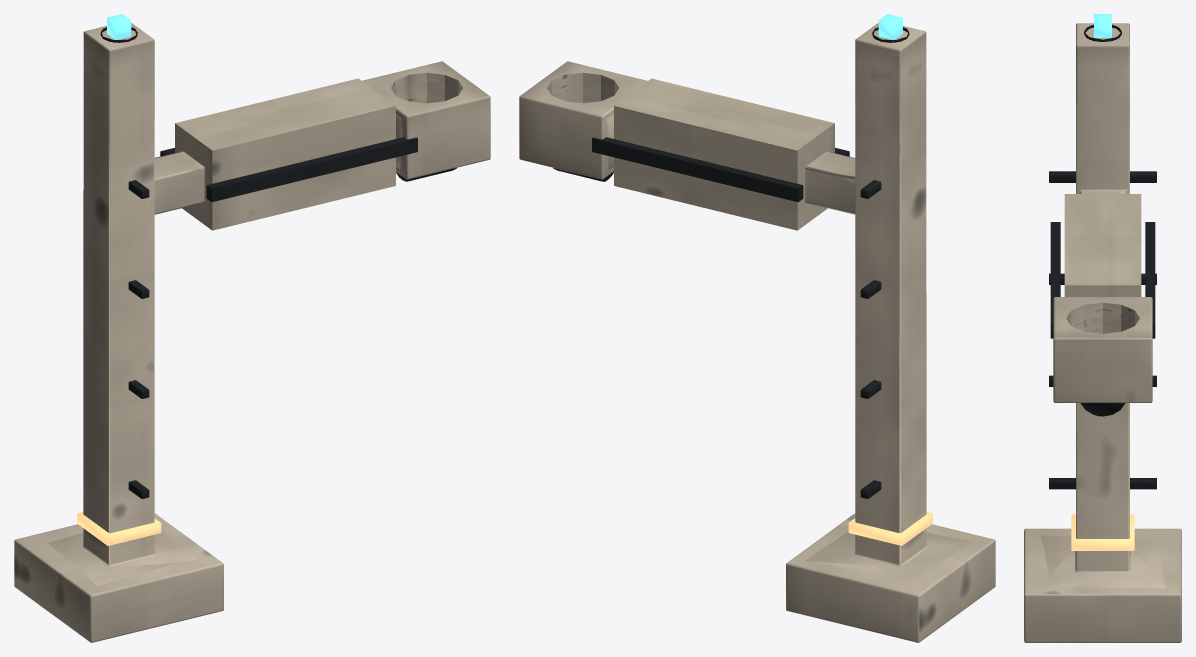
The model's file is place_lane_beacon_v5.glb.
3 renders of one model, left to right at view 1: azimuth 30°, elevation 25°; view 2: azimuth 150°, elevation 25°; view 3: azimuth 270°, elevation 25°, orthographic. The views are drawn at different scales.
Parts seen in each view (by area): view 1: LOD0_Merged_Material_Hull, LOD1_Merged_Material_Hull, LOD0_Merged_Material_Mechanical, LOD2_Merged_Material_Hull, LOD0_Merged_Material_Warm; view 2: LOD0_Merged_Material_Hull, LOD1_Merged_Material_Hull, LOD0_Merged_Material_Mechanical, LOD2_Merged_Material_Hull, LOD0_Merged_Material_Warm; view 3: LOD0_Merged_Material_Hull, LOD1_Merged_Material_Hull, LOD0_Merged_Material_Mechanical, LOD2_Merged_Material_Hull, LOD0_Merged_Material_Warm, LOD1_Merged_Material_Mechanical, LOD0_HOOK_EMISSIVE.
Part boxes in pixels (<box>): LOD0_Merged_Material_Hull: <box>14,23,490,642</box>; LOD1_Merged_Material_Hull: <box>15,27,490,642</box>; LOD0_Merged_Material_Mechanical: <box>100,27,456,498</box>; LOD2_Merged_Material_Hull: <box>82,39,490,642</box>; LOD0_Merged_Material_Warm: <box>77,512,161,545</box>; LOD0_Merged_Material_Hull: <box>519,23,995,642</box>; LOD1_Merged_Material_Hull: <box>519,31,995,642</box>; LOD0_Merged_Material_Mechanical: <box>553,27,909,498</box>; LOD2_Merged_Material_Hull: <box>519,31,995,642</box>; LOD0_Merged_Material_Warm: <box>848,512,932,545</box>; LOD0_Merged_Material_Hull: <box>1024,23,1181,642</box>; LOD1_Merged_Material_Hull: <box>1024,23,1181,642</box>; LOD0_Merged_Material_Mechanical: <box>1049,24,1156,489</box>; LOD2_Merged_Material_Hull: <box>1024,23,1181,642</box>; LOD0_Merged_Material_Warm: <box>1071,514,1134,550</box>; LOD1_Merged_Material_Mechanical: <box>1049,25,1156,488</box>; LOD0_HOOK_EMISSIVE: <box>1094,14,1111,37</box>.
Bounding box in the file's own units: 10.85 × 14.5 × 3.5.
4 materials, 4 textured.
